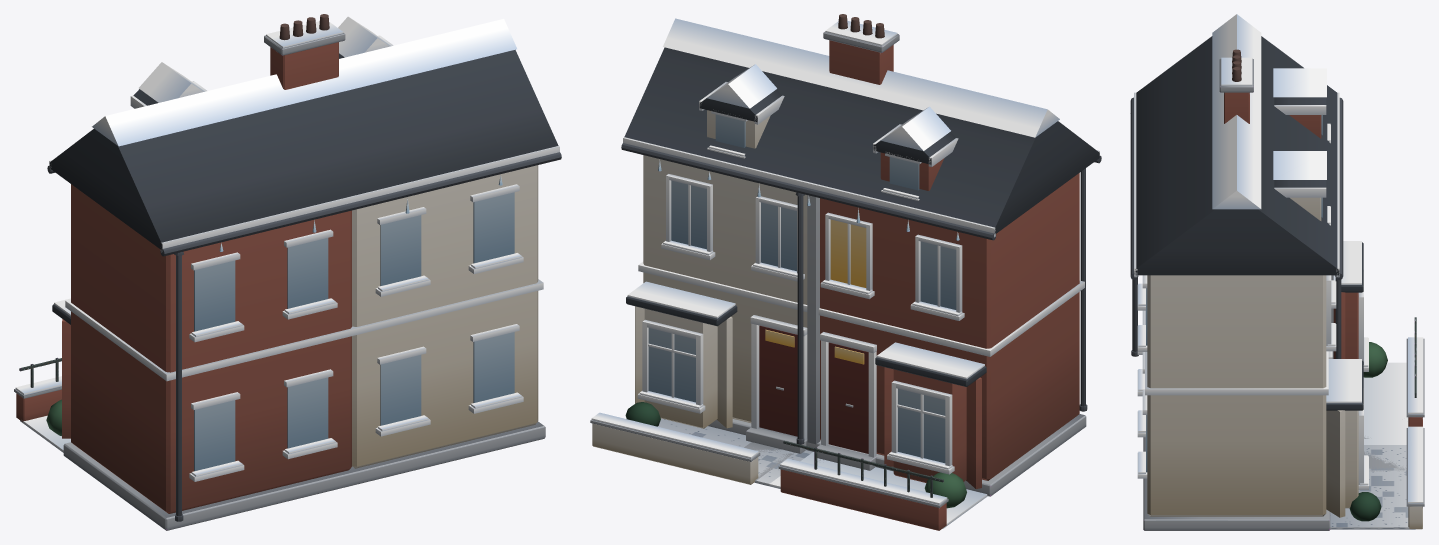
File: ck_house_terrace_pair.fbx
3 renders of one model, left to right at view 1: azimuth 30°, elevation 25°; view 2: azimuth 150°, elevation 25°; view 3: azimuth 270°, elevation 25°, orthographic. The views are drawn at different scales.
Parts seen in each view (by area): view 1: ck_house_terrace_pair; view 2: ck_house_terrace_pair; view 3: ck_house_terrace_pair.
Part boxes in pixels (x1,y1,x2,y2): ck_house_terrace_pair: (14,14,561,530); ck_house_terrace_pair: (590,14,1101,530); ck_house_terrace_pair: (1130,14,1424,530).
Size of the model in its own units: 2437 by 2500 by 1717.
